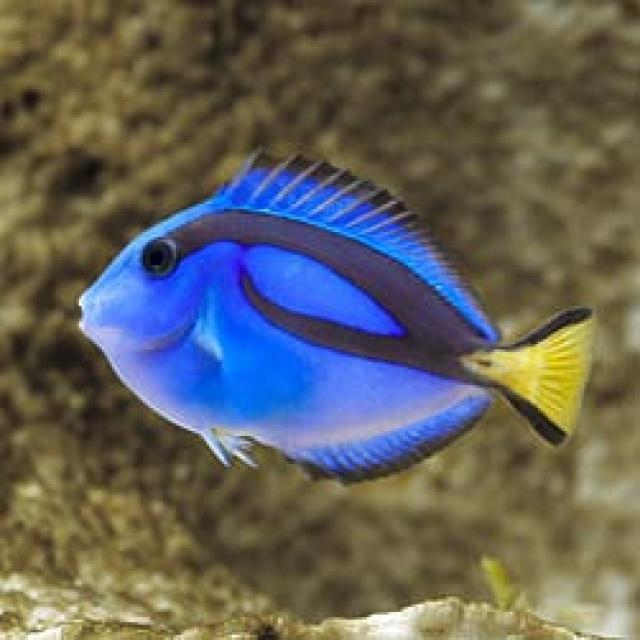TangFish: (70, 149, 596, 481)
